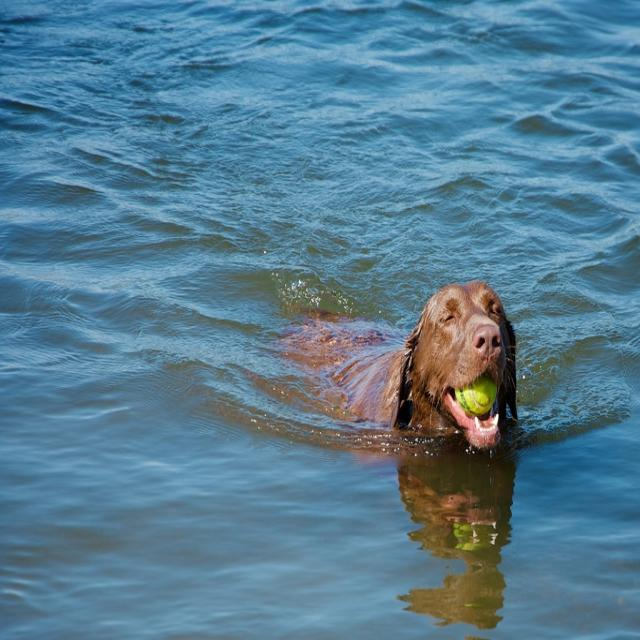Tennis ball: (456, 378, 495, 414)
